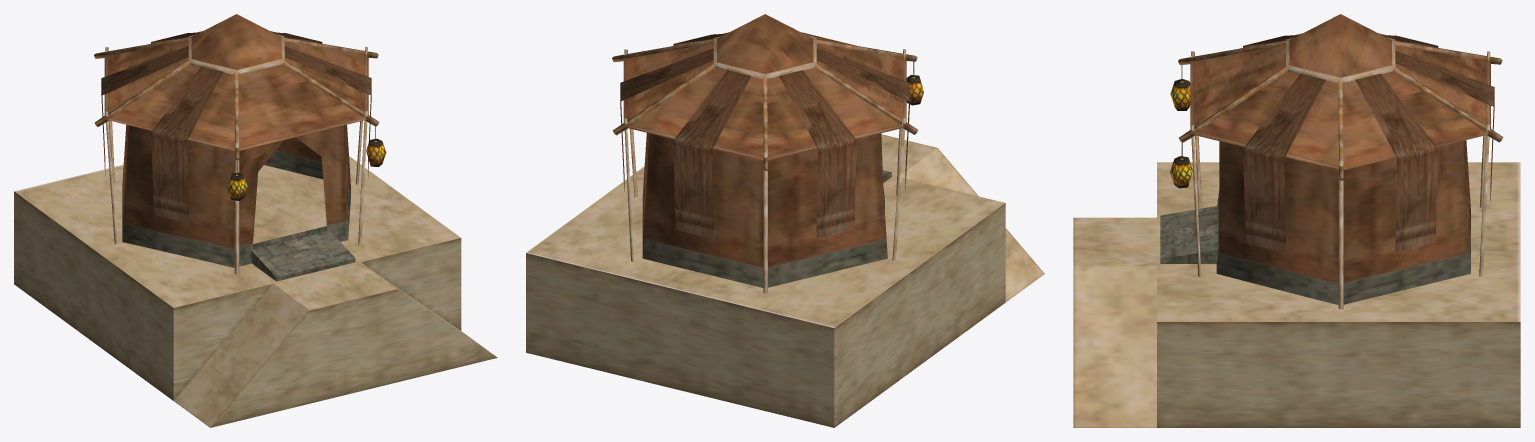
The model's file is ply_tato_merchant_tent_s01_r0_mesh_l2.fbx.
3 views of the same model, side by side, from view 1: azimuth 30°, elevation 25°; view 2: azimuth 150°, elevation 25°; view 3: azimuth 270°, elevation 25° (orthographic). The views are drawn at different scales.
Parts seen in each view (by area): view 1: mesh_node; view 2: mesh_node; view 3: mesh_node.
Boxes of the visible parts, x1,y1,x2,y2 form: mesh_node: (14,14,497,427); mesh_node: (526,14,1044,427); mesh_node: (1073,14,1520,427).
Bounding box in the file's own units: 9.05 × 8.81 × 10.7.
